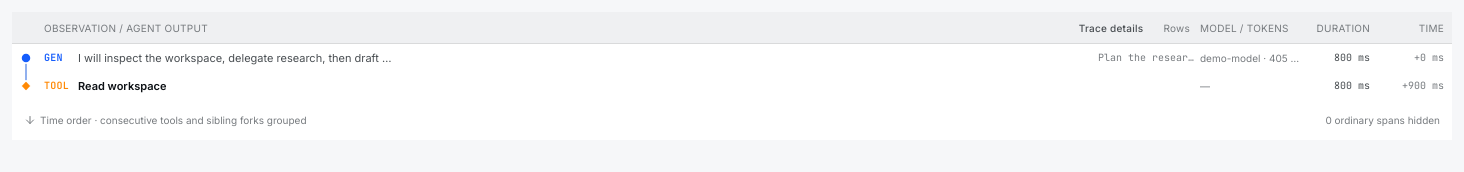
Test: trace graph floating details › removes the graph title, legend and statistics without losing trace details or layout controls
Check: the button with aria-label "Plan the research I will inspect the workspace, delegate res" is shown, box [12,44,1452,72]
Check: the button "Trace details" is shown, box [1071,16,1151,40]
Click the button with aria-label "Show individual rows": (1177, 28) [1159,14,1194,42]
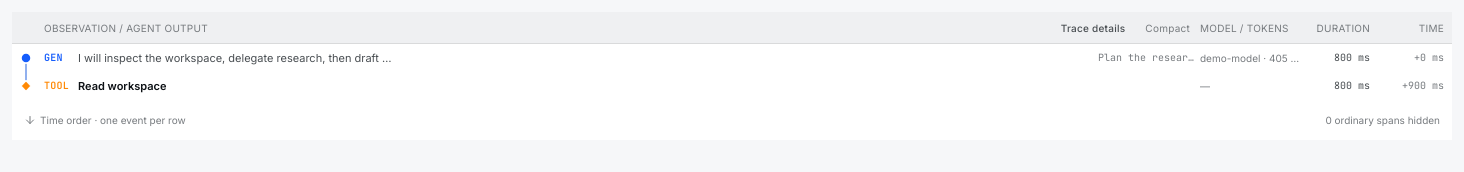
Check: the button with aria-label "Group consecutive tools" is shown, box [1141,14,1194,42]
